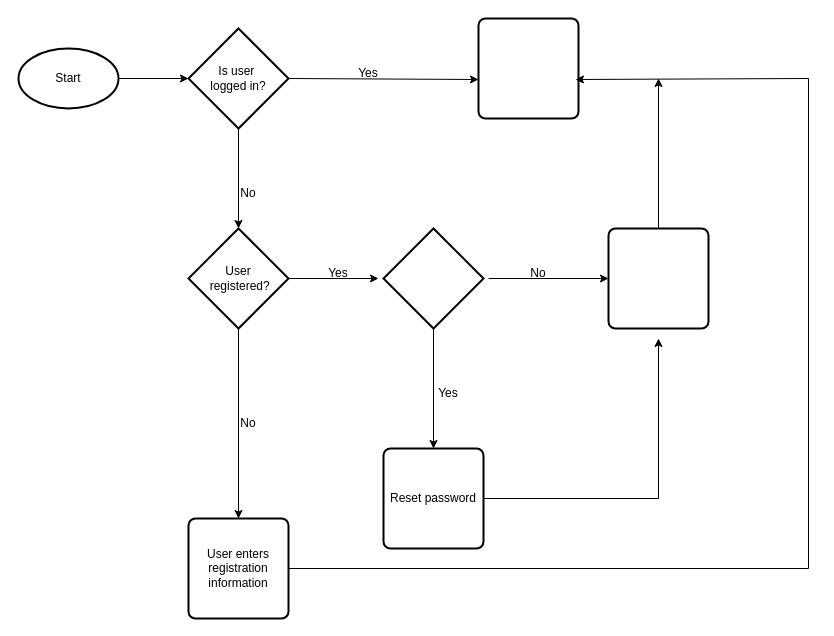
Some shapes in this 834 by 636 pixel diagram are drawn without their labels. Each missing label, with the centre of its shape:
"Enter log in information" belongs at pixel 658 278.
"Forgot password?" belongs at pixel 433 278.
